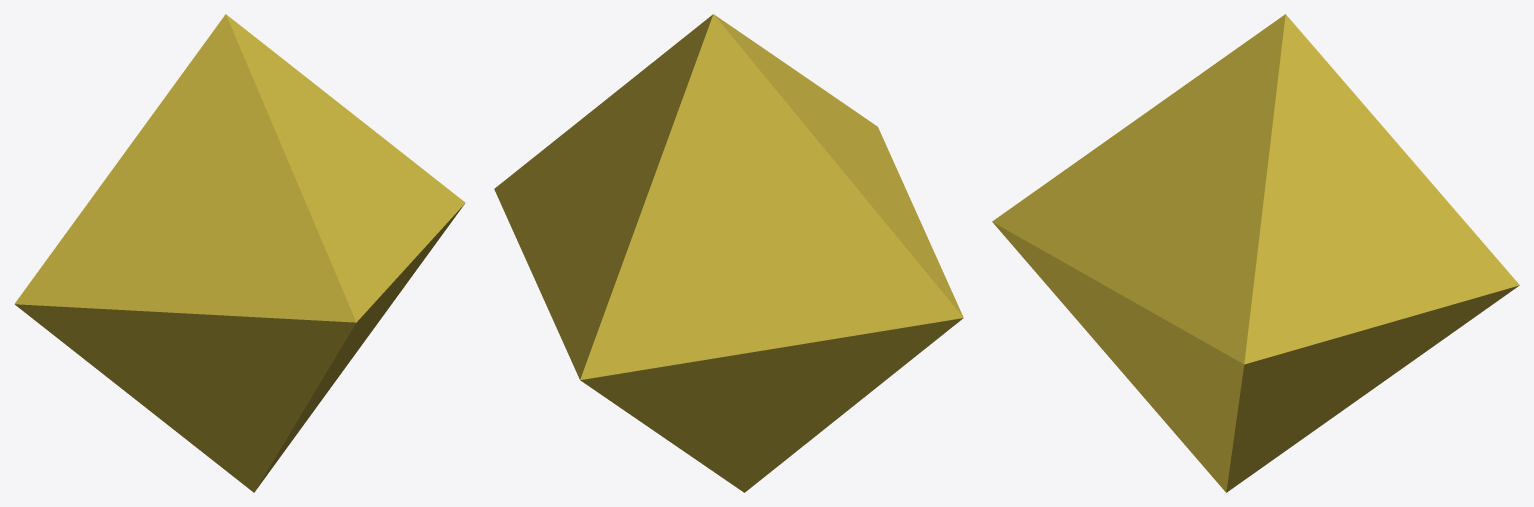
The picture shows the model from 3 angles, left to right: view 1: azimuth 30°, elevation 25°; view 2: azimuth 150°, elevation 25°; view 3: azimuth 270°, elevation 25°; orthographic projection. The views are drawn at different scales.
Visible parts, largest first — view 1: node_id3; view 2: node_id3; view 3: node_id3.
Part boxes in pixels (left/top/right/bottom): node_id3: left=14, top=14, right=465, bottom=492; node_id3: left=494, top=14, right=963, bottom=492; node_id3: left=992, top=14, right=1519, bottom=492.
Bounding box in the file's own units: 0.5115 × 0.5088 × 0.5083.
Materials: 1 (1 with a texture image).
